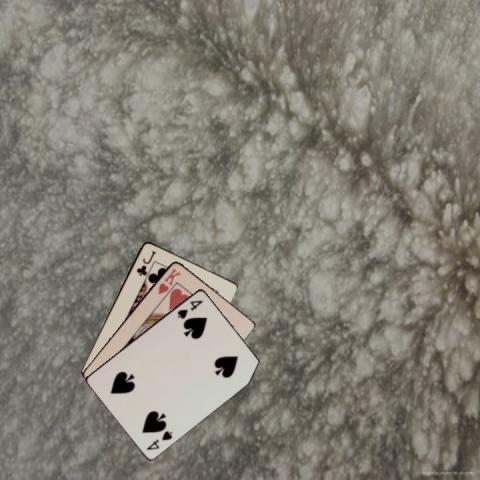4s: (143, 428, 174, 452), (174, 297, 204, 320)
Jc: (133, 248, 156, 278)
Kh: (155, 265, 182, 295)
